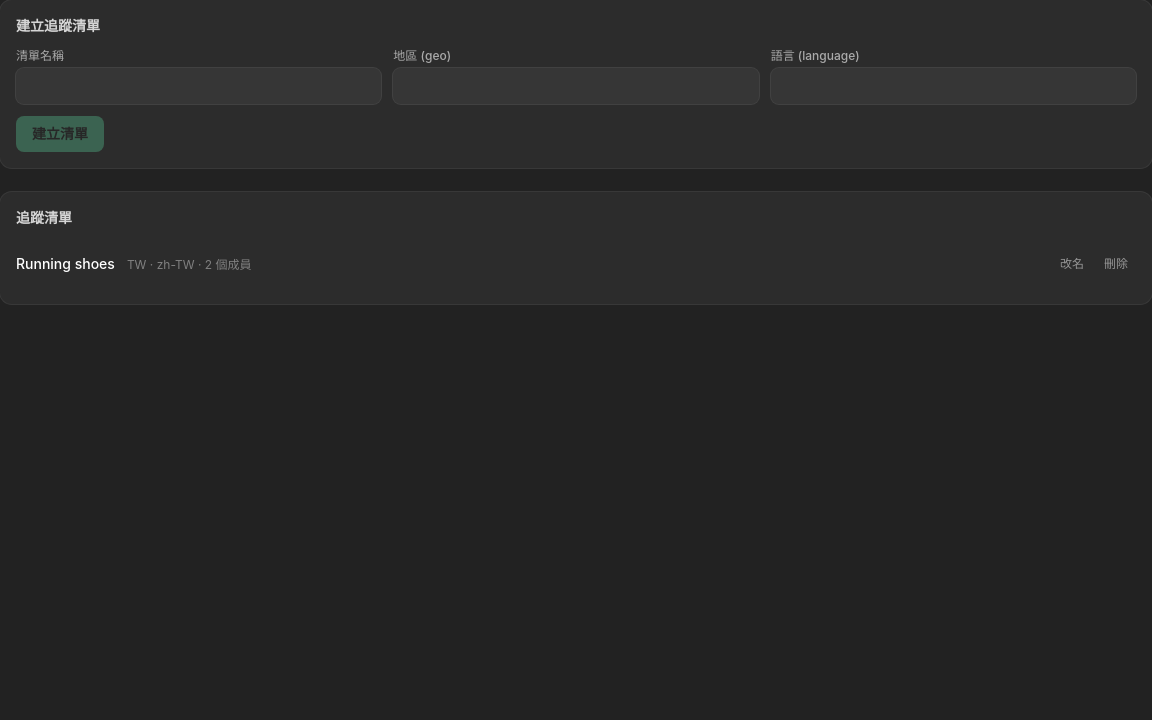
it: TC-40 · TrackingListsView › maps a delete 404 to a not-found prompt and keeps the row
Step 1. Click the button with aria-label "刪除 Running shoes" → point(1116, 264), box [1096,252,1136,276]
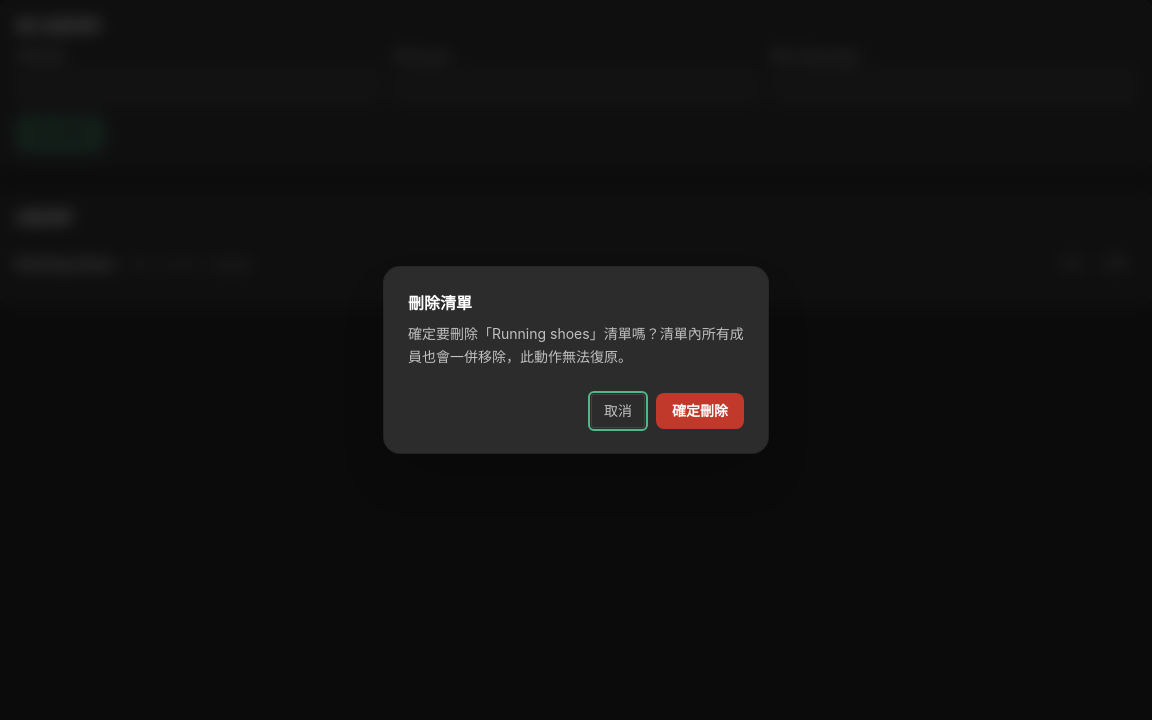
Step 2. Click the button "確定刪除" → point(700, 411), box [656,393,744,429]
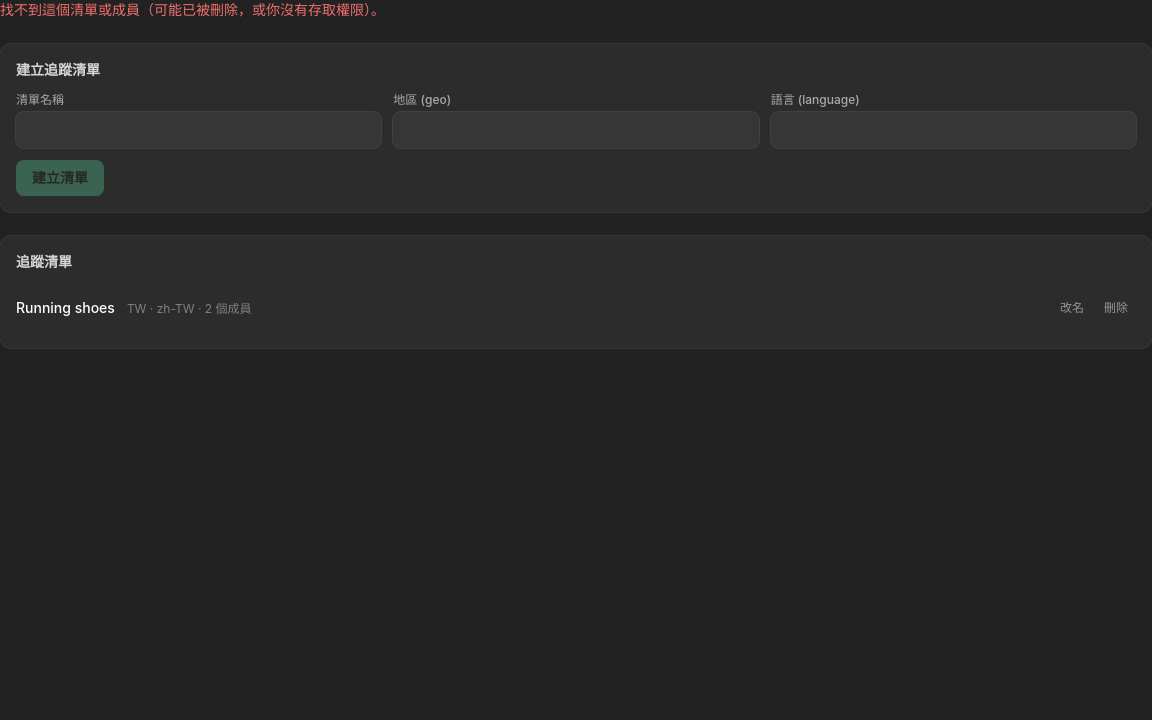
Expected: the button "Running shoes" is shown, [16,298,115,318]
Expected: the message shows "找不到", [0,1,385,18]
